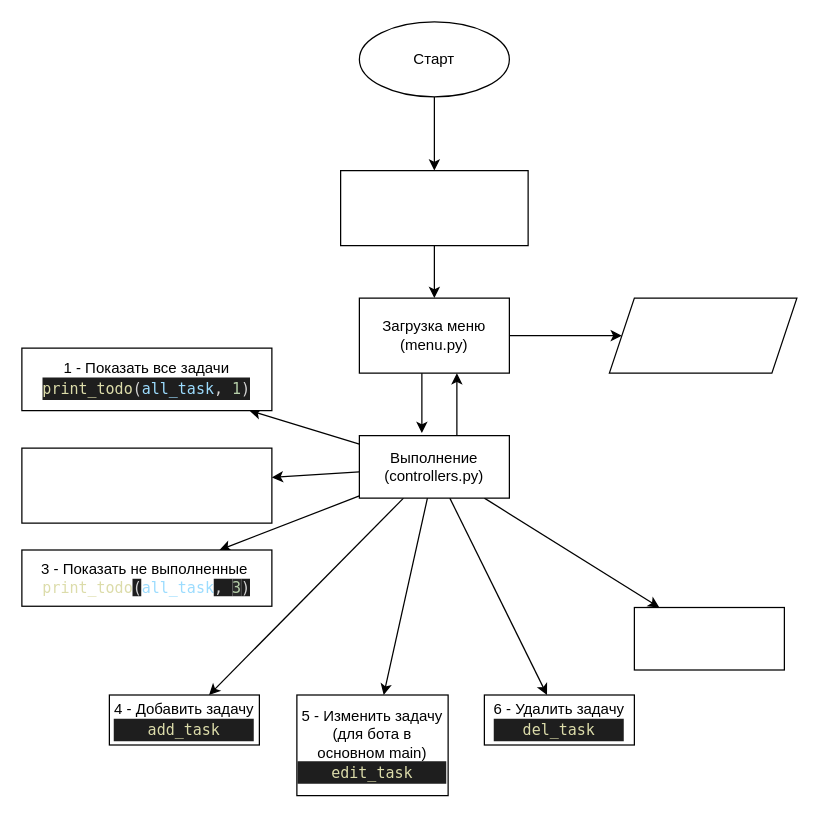
This 819x818 diagram has some shape labels left out. Each missing label, with the box of its shape:
0 - Выход: (608, 297, 797, 373)
2 - Показать выполненные print_todo ( all_task , 2 ): (21, 447, 272, 523)
9 - Сохранить изменения save_data: (633, 606, 784, 670)
Запуск главного файла (main.py): (339, 169, 528, 246)
